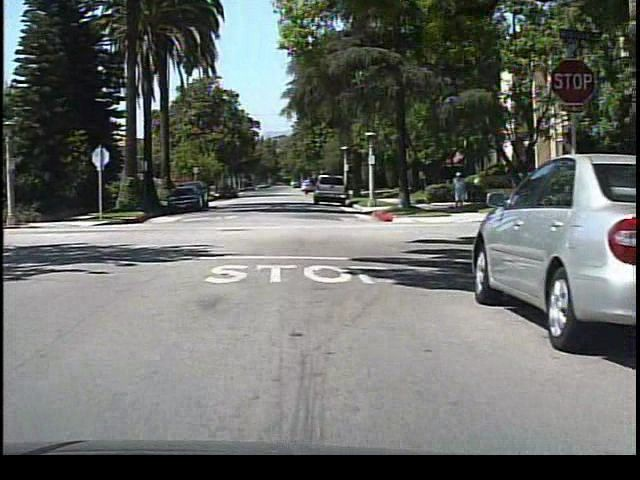person: (449, 168, 467, 214)
